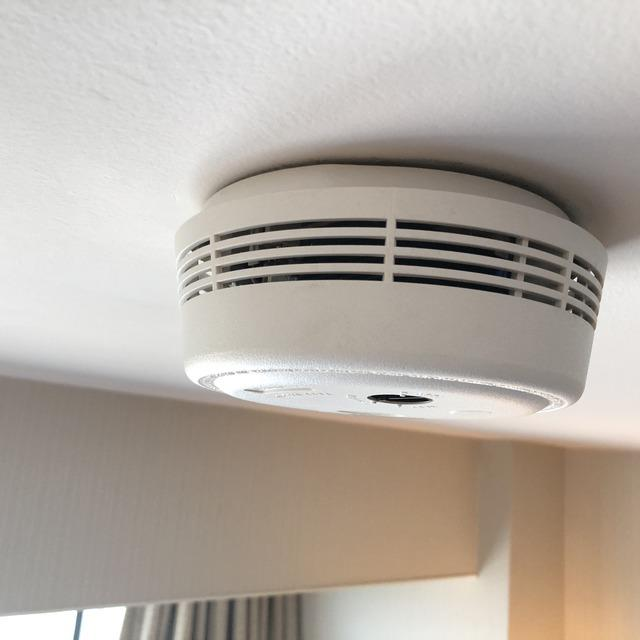Smoke-Detector: (162, 153, 614, 434)
